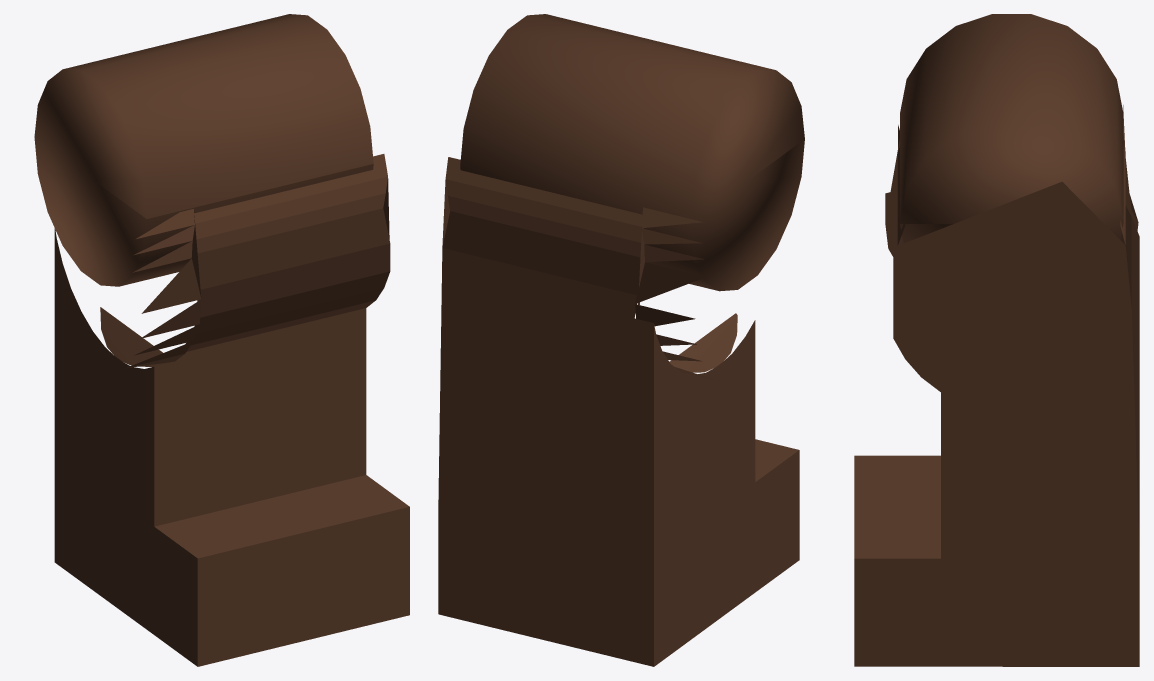
File: legR.glb
3 renders of one model, left to right at view 1: azimuth 30°, elevation 25°; view 2: azimuth 150°, elevation 25°; view 3: azimuth 270°, elevation 25°, orthographic. The views are drawn at different scales.
Visible parts, largest first — view 1: mom_legR; view 2: mom_legR; view 3: mom_legR.
Boxes of the visible parts, x1,y1,x2,y2 form: mom_legR: (34, 14, 409, 666); mom_legR: (438, 14, 804, 666); mom_legR: (854, 14, 1139, 666).
Bounding box in the file's own units: 0.3561 × 0.7237 × 0.3488.
